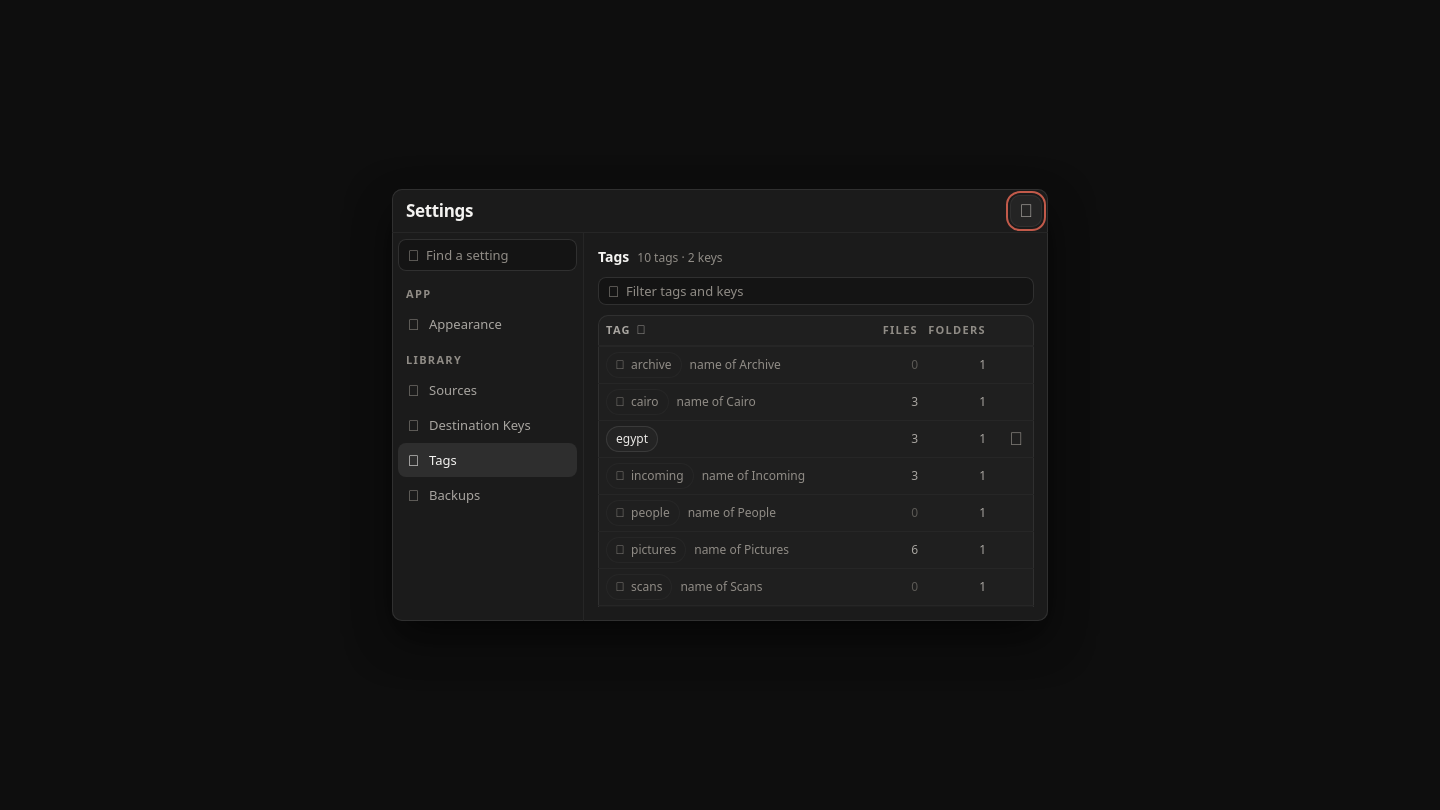
Test: the headings sort, and a second click reverses; the filter counts what it shows
The image size is (1440, 810).
Click the button with aria-label "Sort by Files": [900, 330] box x1=879 y1=317 x2=922 y2=343
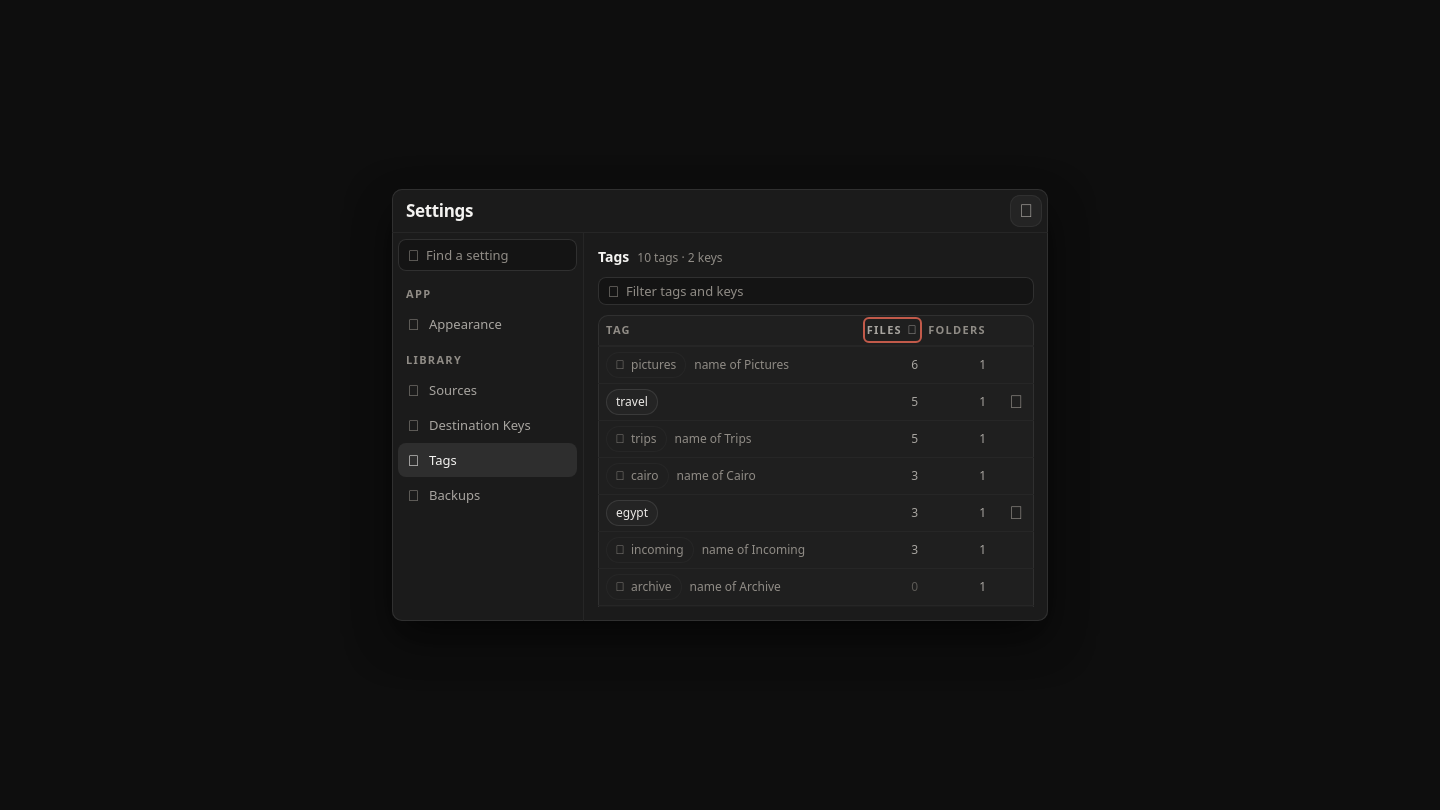
expect the text "pictures" is shown: met, box x1=631 y1=357 x2=676 y2=373
Click the button with aria-label "Sort by Files": [892, 330] box x1=863 y1=317 x2=922 y2=343
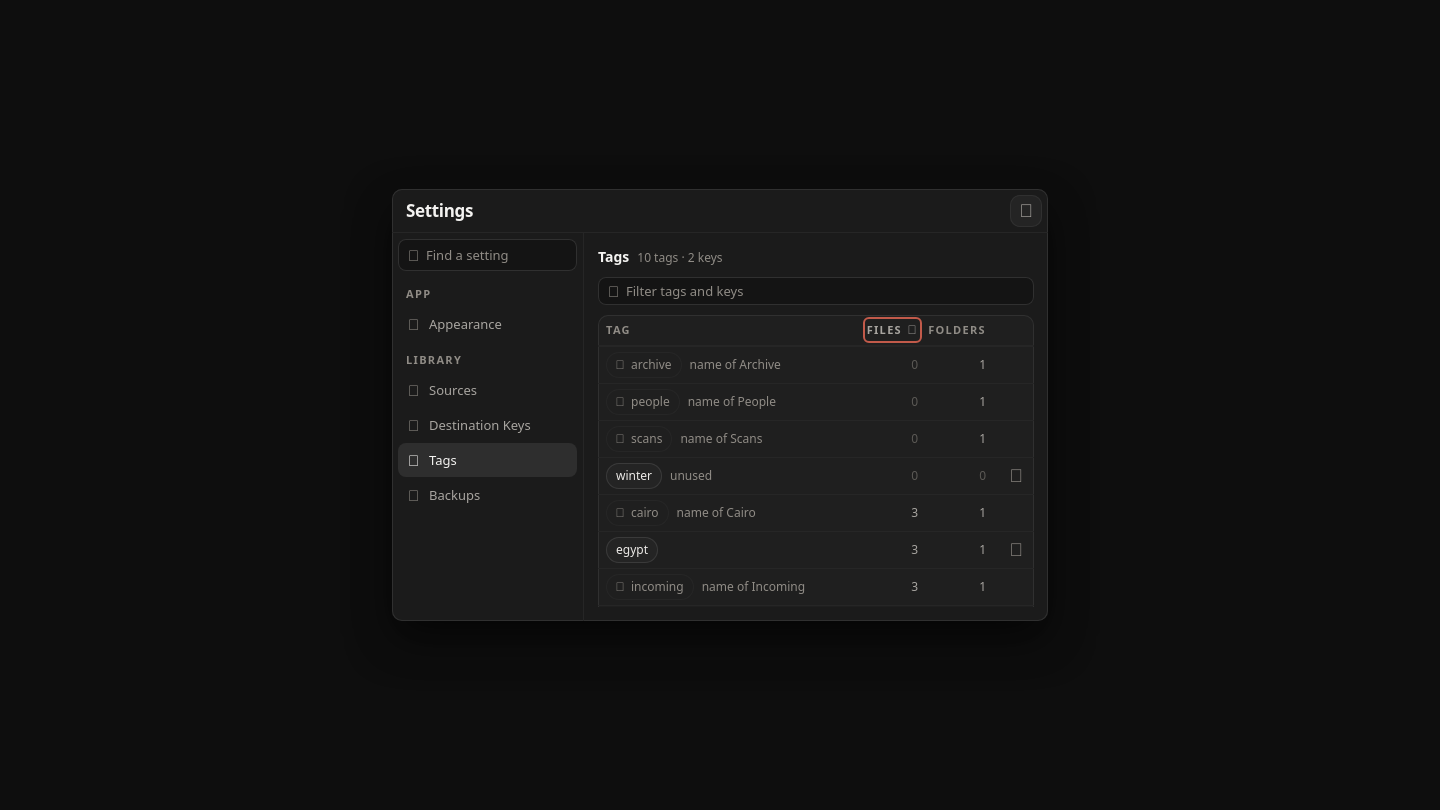
In the search field named "Filter tags and keys": [816, 291] box x1=598 y1=277 x2=1034 y2=305, type "cai"
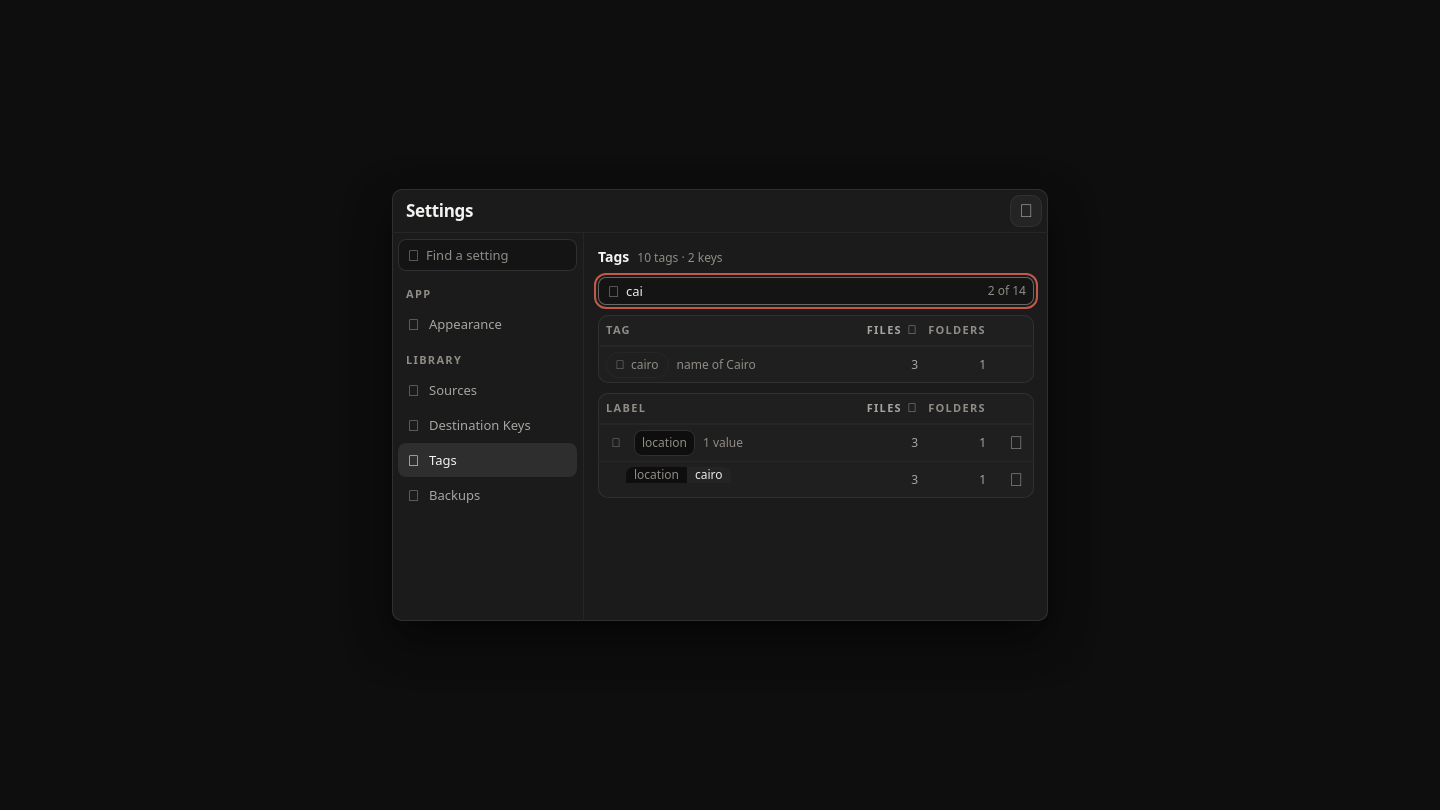
expect the text "2 of 14" is shown: met, box x1=988 y1=283 x2=1026 y2=299
expect the button titled "Search location:cairo" is shown: met, box x1=626 y1=467 x2=730 y2=493
Replace the text in the search field named "Filter tags and keys" with "zebra": [816, 291] box x1=598 y1=277 x2=1034 y2=305
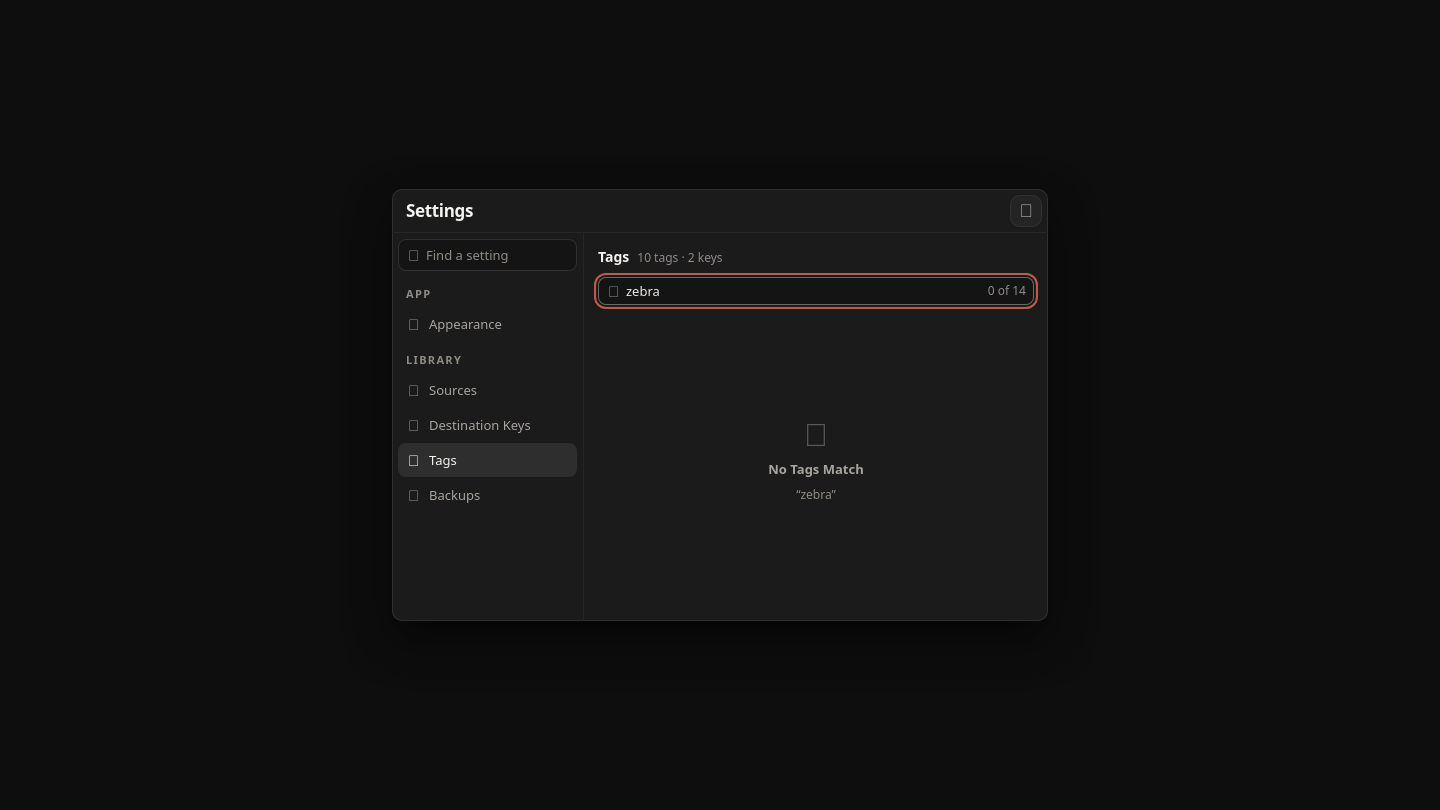
expect the text "No Tags Match" is shown: met, box x1=768 y1=459 x2=864 y2=479
